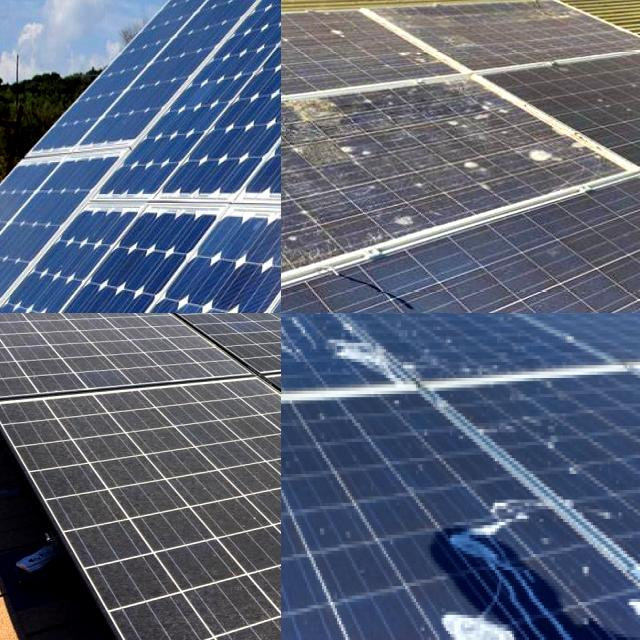bird: (443, 512, 535, 578), (326, 317, 404, 382), (408, 98, 516, 140), (446, 599, 551, 640), (540, 423, 593, 488), (281, 84, 354, 124), (391, 36, 464, 74), (281, 18, 342, 61), (522, 125, 556, 181), (302, 8, 360, 40), (281, 313, 323, 353), (281, 137, 310, 189), (373, 207, 420, 236), (334, 142, 378, 172), (436, 152, 487, 176), (281, 235, 303, 279), (281, 313, 300, 357), (281, 39, 296, 75)
crack: (14, 0, 281, 188)
dust: (113, 478, 281, 556), (68, 417, 281, 467), (0, 313, 94, 397), (124, 322, 214, 393), (176, 589, 281, 640)
